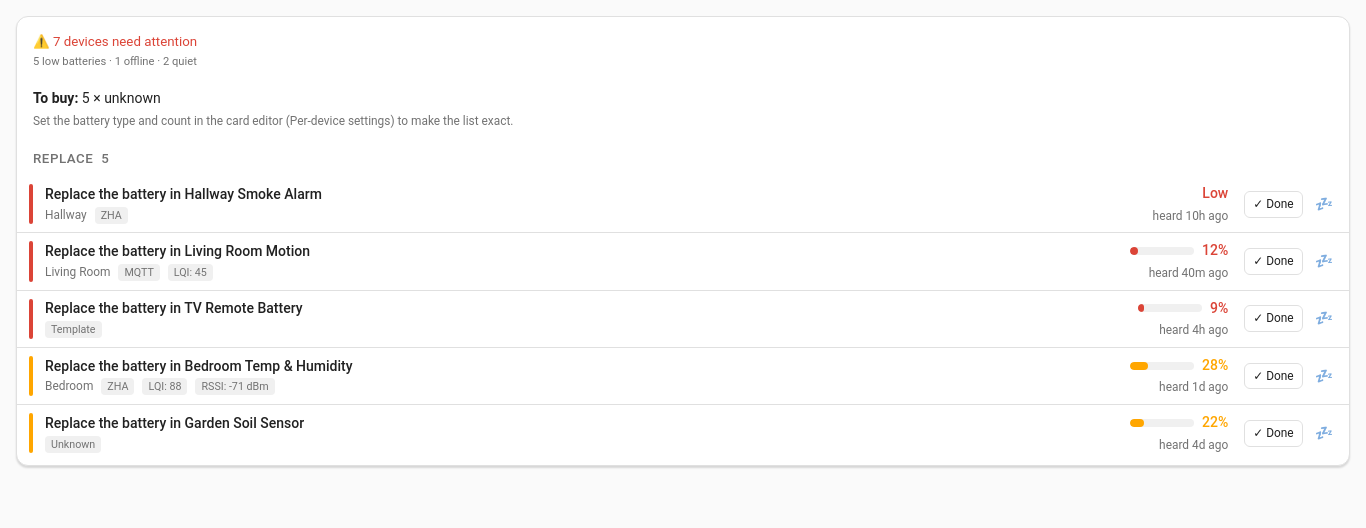
Test: App, undo › offers to undo a Done, and undoes it only once it is recorded
Expected: the text "To buy:" is shown, 33,90 -> 78,106
Click the button with aria-label "Mark Living Room Motion done".
click(1274, 262)  # box 1244,248 -> 1303,275
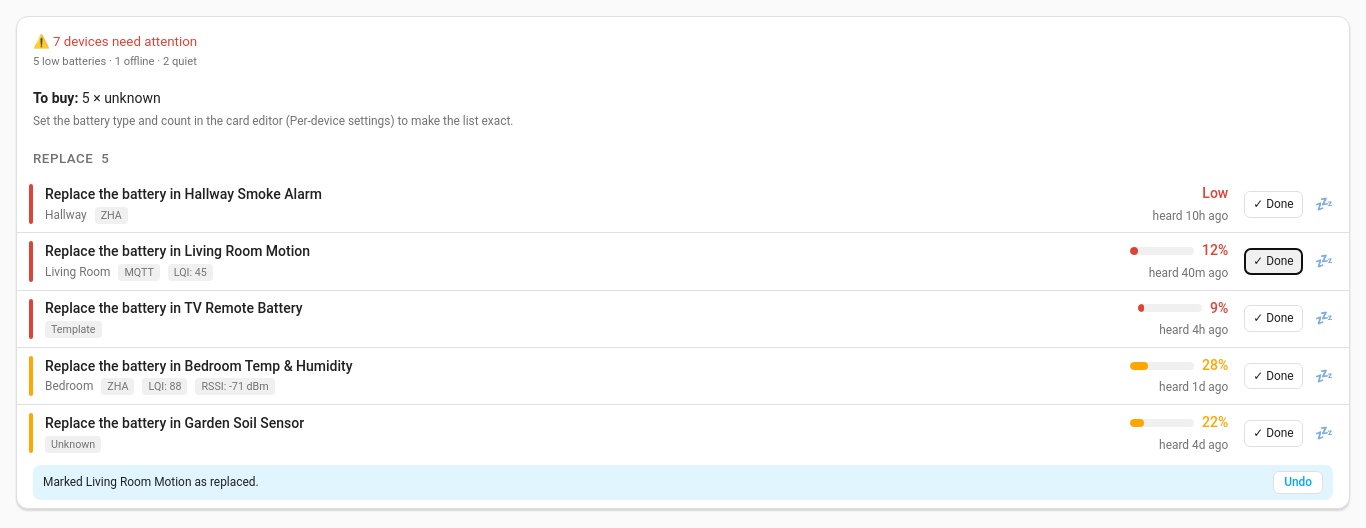
Result: the text "Marked Living Room Motion as replaced." is shown at 43,474 -> 259,491
Click the button "Undo".
click(1298, 483)  # box 1273,471 -> 1323,494
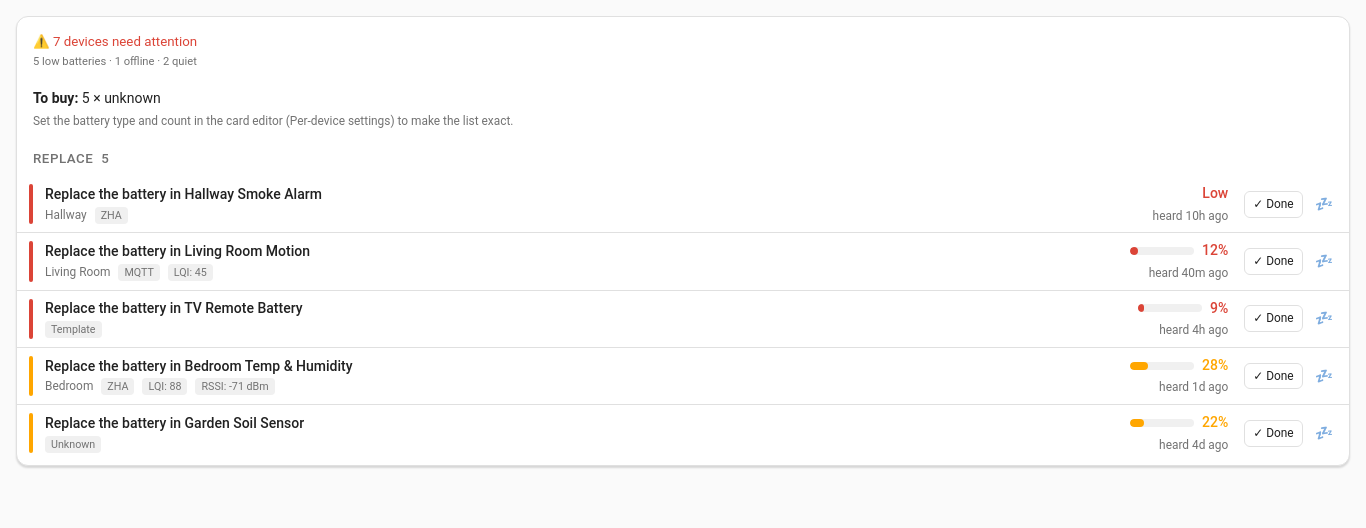
Result: the text "Marked Living Room Motion as replaced." is gone
